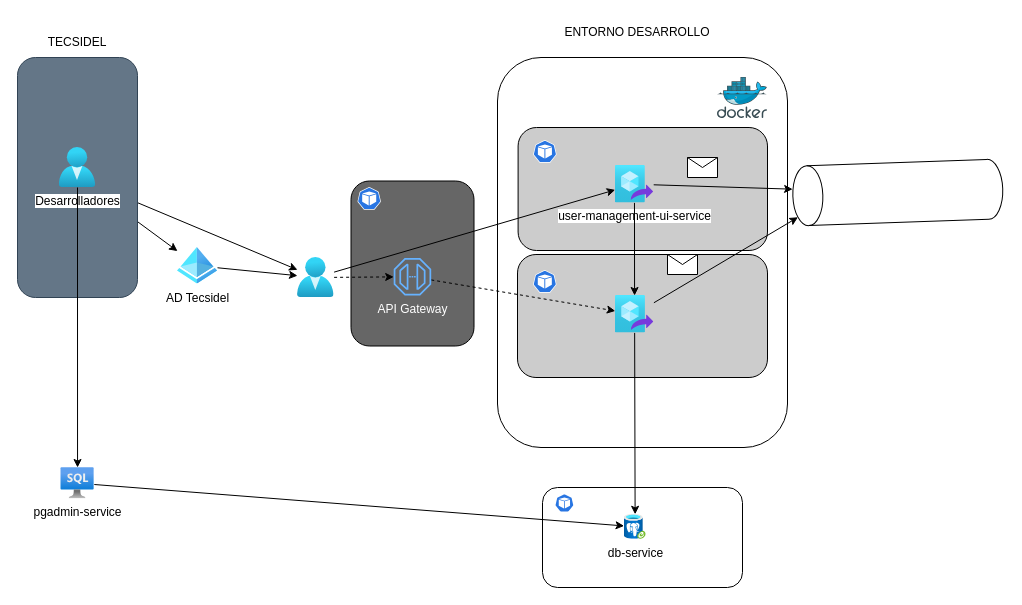
Some shapes in this 1022 by 605 pixel diagram are drawn without their labels. The centre of each missing label's shape, as x and y in pixels:
"RabbitMQ / Redis" goes at (x=897, y=192).
"user-management-service" goes at (x=634, y=313).
"Usuarios" goes at (x=315, y=277).
